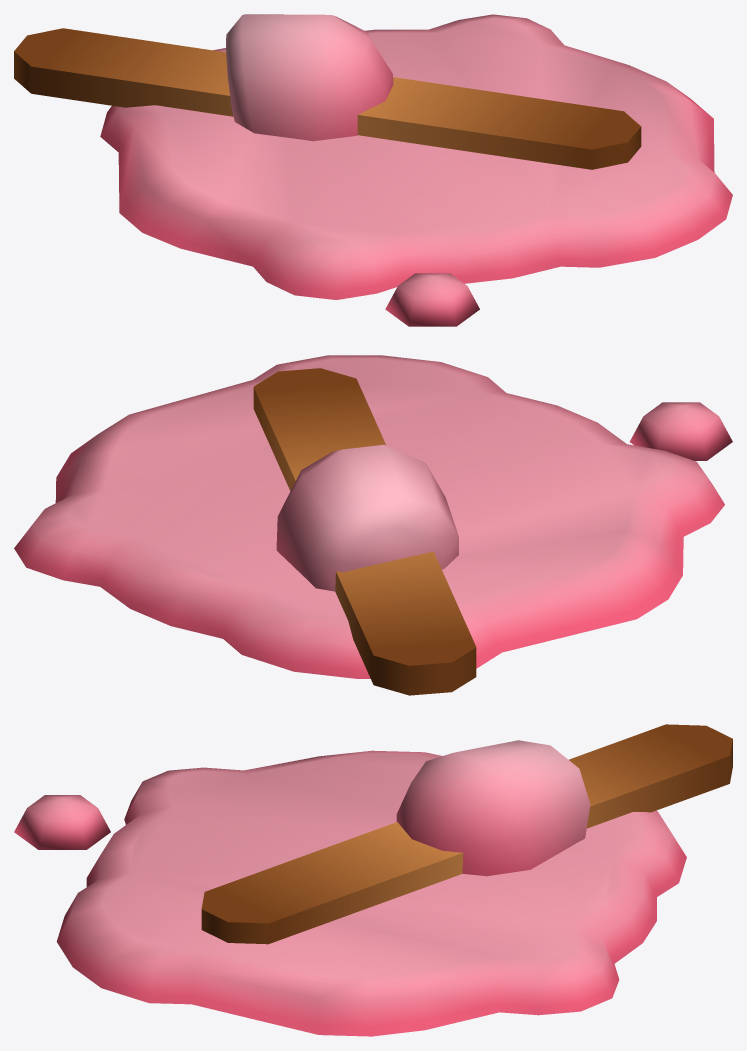
The model's file is m_SpilledPopsicle01.fbx.
The picture shows the model from 3 angles, top to bottom: view 1: azimuth 30°, elevation 25°; view 2: azimuth 150°, elevation 25°; view 3: azimuth 270°, elevation 25°; orthographic projection. The views are drawn at different scales.
Visible parts, largest first — view 1: m_SpilledPopsicle01; view 2: m_SpilledPopsicle01; view 3: m_SpilledPopsicle01.
Boxes of the visible parts, <box> form: m_SpilledPopsicle01: <box>14,14,732,326</box>; m_SpilledPopsicle01: <box>14,355,732,695</box>; m_SpilledPopsicle01: <box>14,724,732,1036</box>.
Size of the model in its own units: 12.21 by 2.52 by 13.54.
